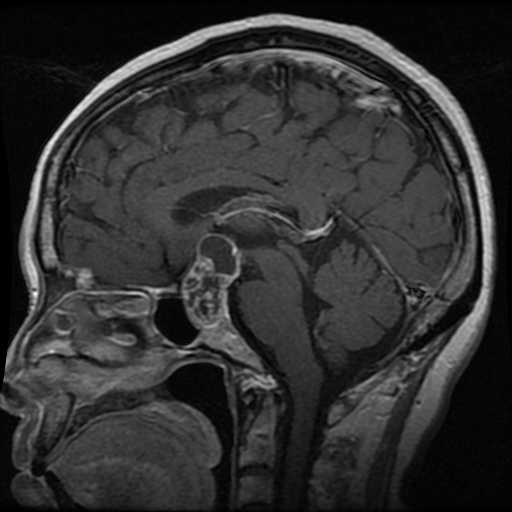pituitary: (182, 231, 243, 331)
